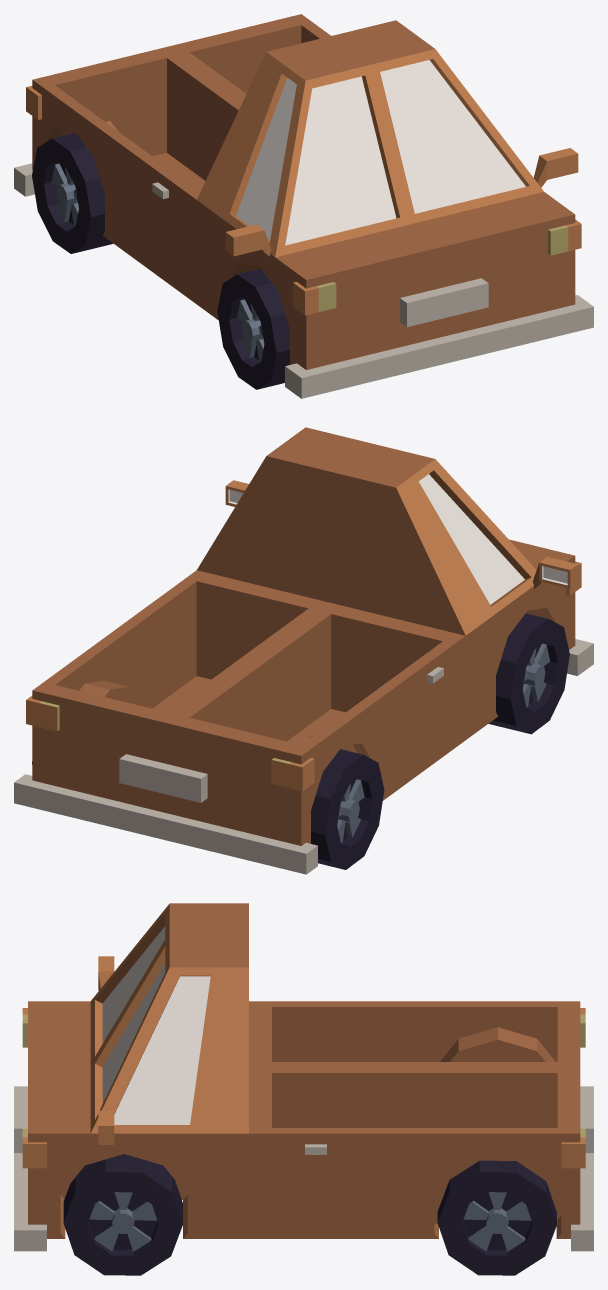
Rendered from car 12.fbx.
The picture shows the model from 3 angles, top to bottom: view 1: azimuth 30°, elevation 25°; view 2: azimuth 150°, elevation 25°; view 3: azimuth 270°, elevation 25°; orthographic projection.
Visible parts, largest first — view 1: car 4; view 2: car 4; view 3: car 4.
Part boxes in pixels (x1,y1,x2,y2): car 4: (14,14,593,398); car 4: (14,427,593,874); car 4: (14,903,593,1275).
Size of the model in its own units: 235 by 174 by 340.
